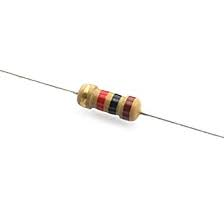resistor: (75, 80, 159, 126)
